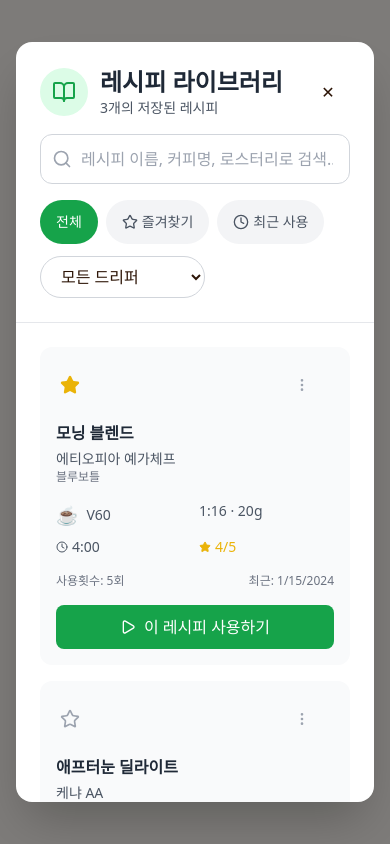
RecipeLibrary › Search Functionality › shows empty search results correctly
Type "nonexistent" into the field with placeholder "레시피 이름, 커피명, 로스터리로 검색...". click: (195, 159)
box: [40,134,350,184]
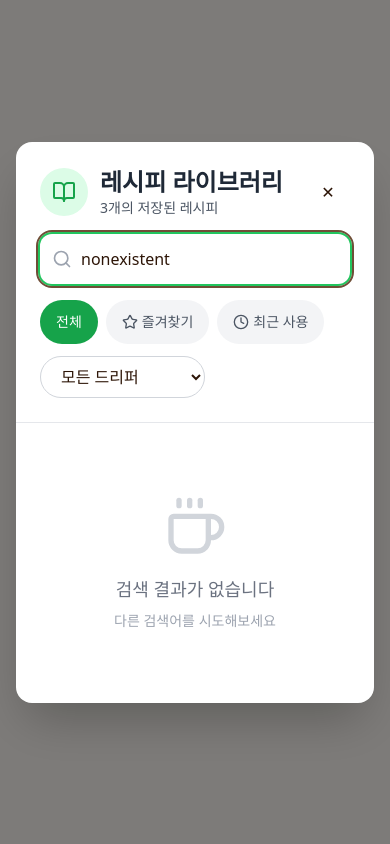
Now the text "검색 결과가 없습니다" is shown, box [116,576,274,600]
Now the text "다른 검색어를 시도해보세요" is shown, box [114,610,276,630]
